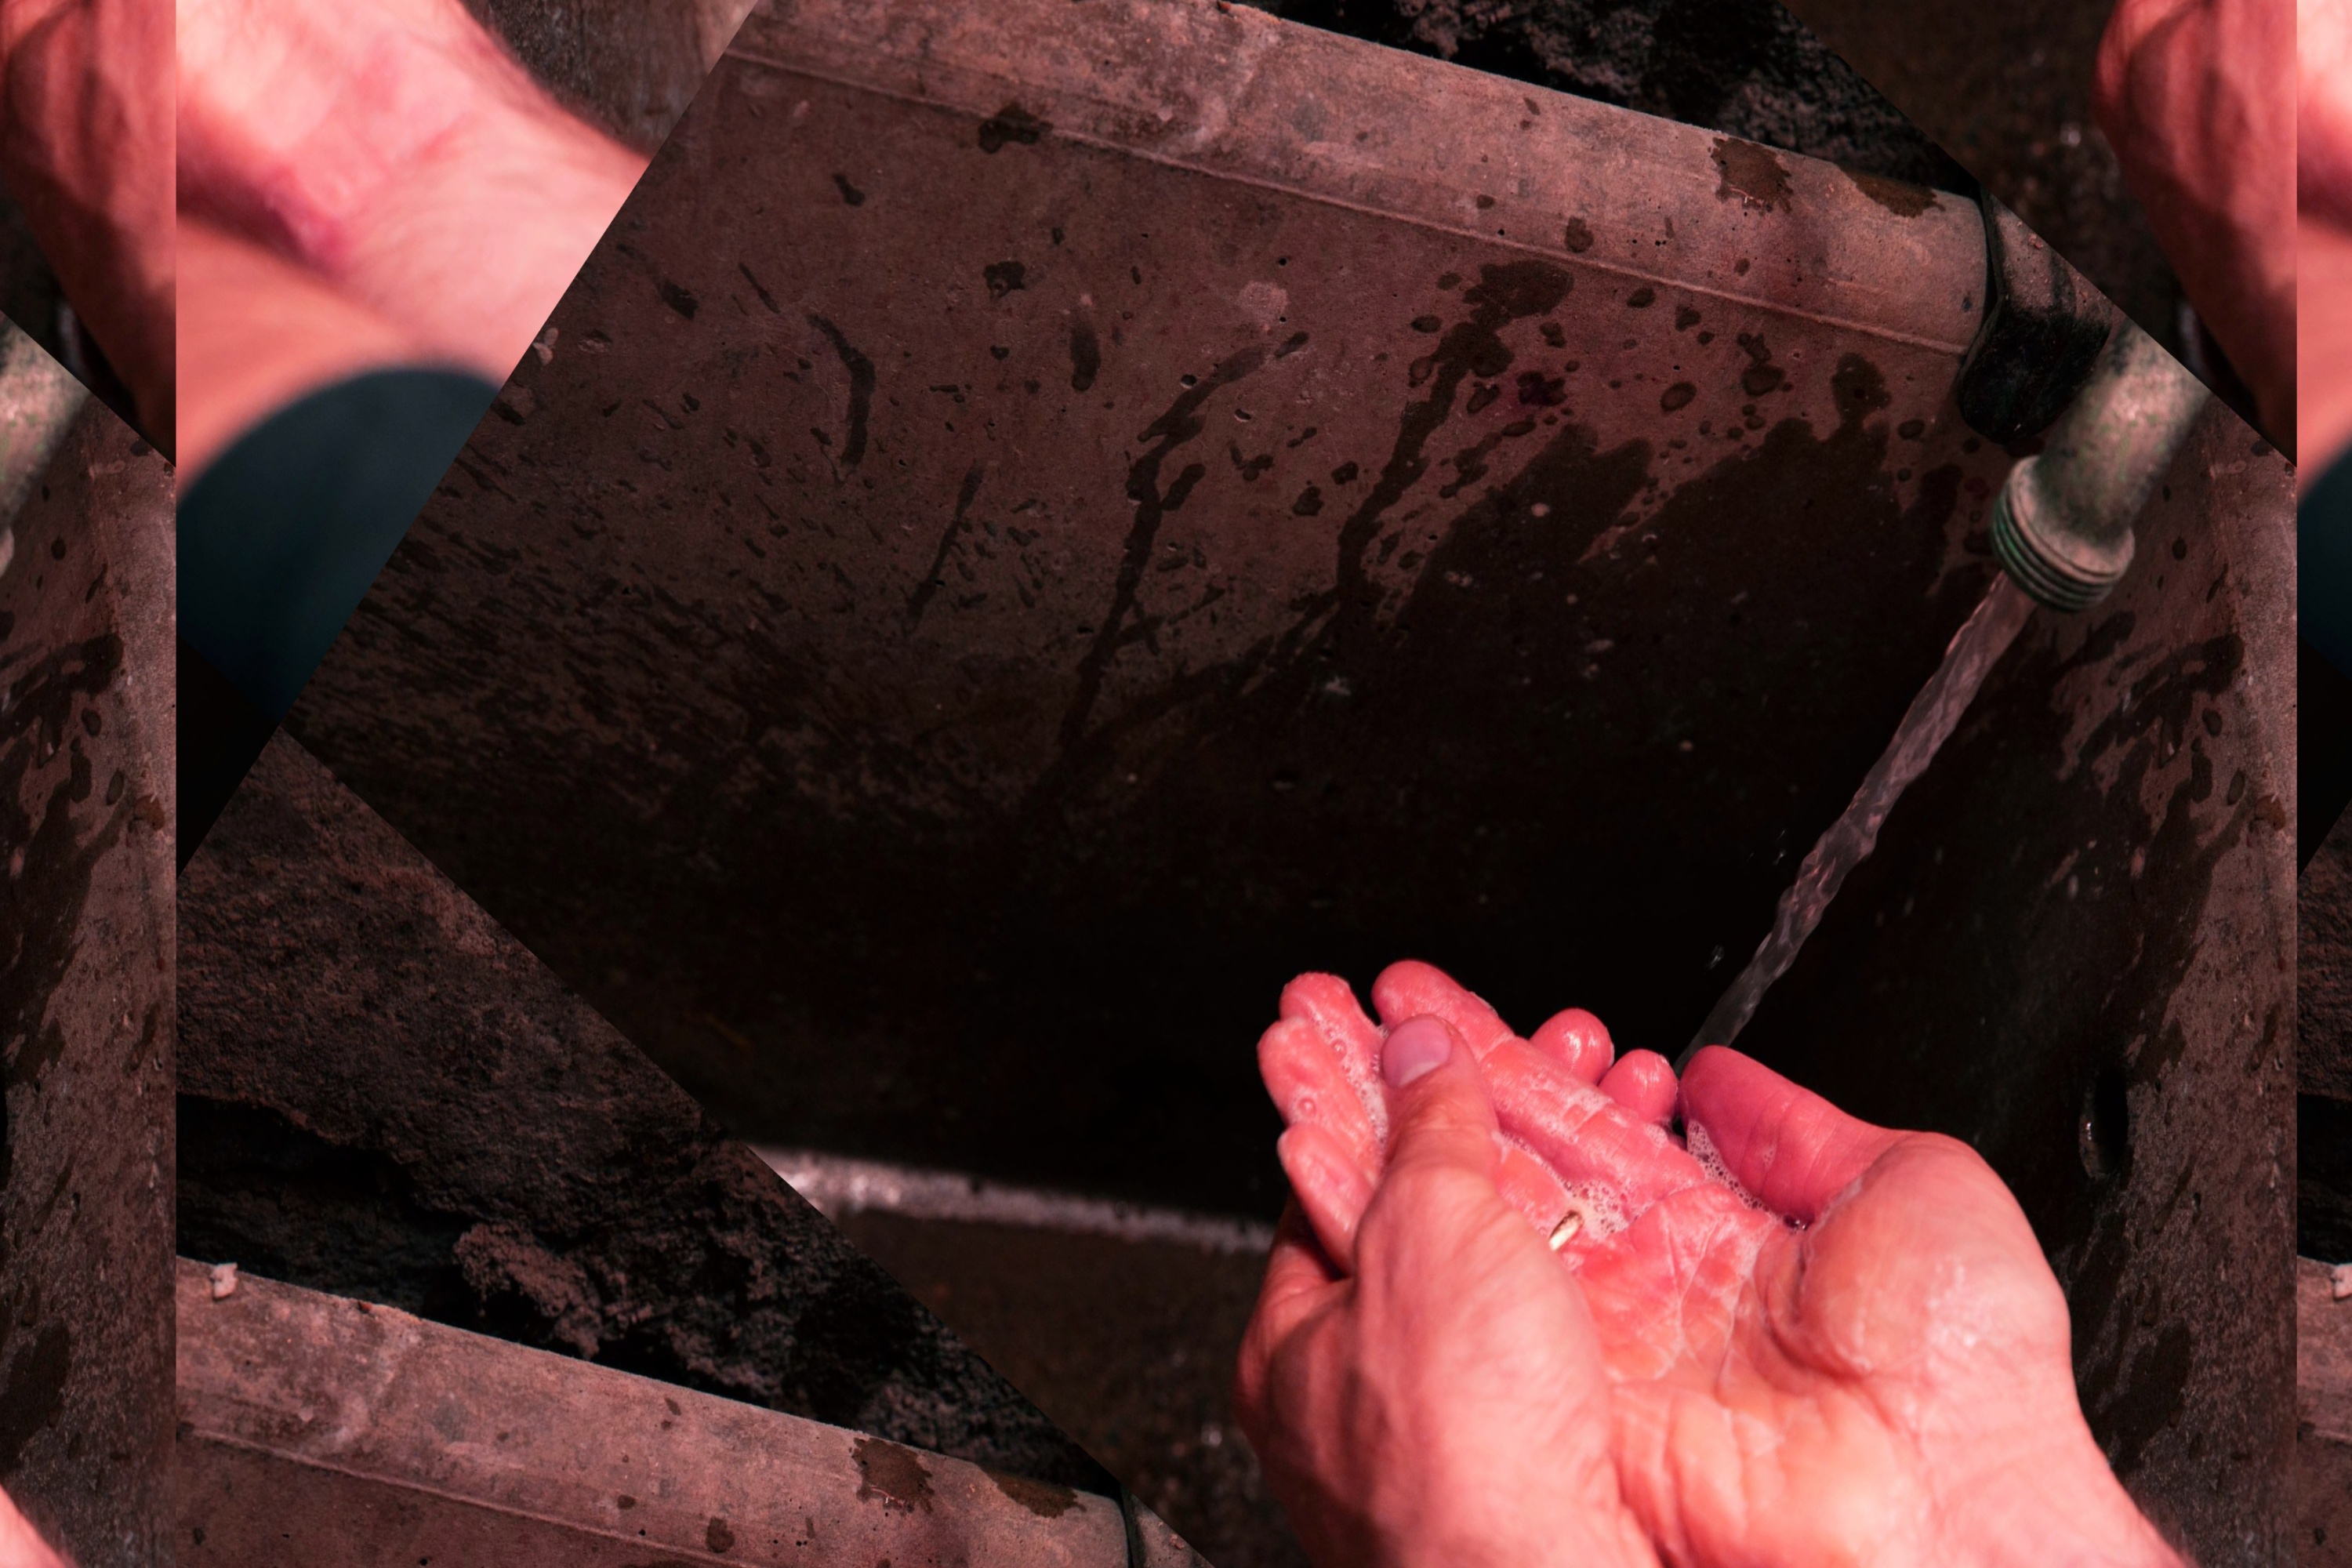washing hand: (857, 0, 2352, 1568)
